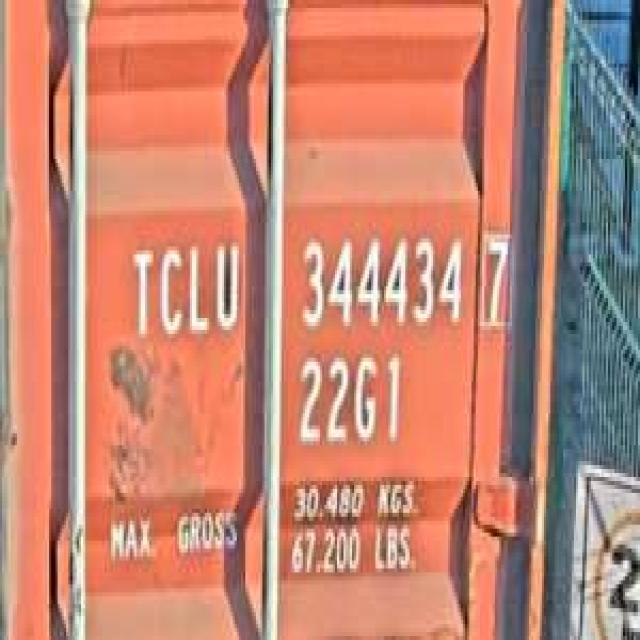dv: (476, 223, 514, 334)
owner: (124, 226, 245, 350)
serial: (292, 222, 465, 338)
size: (292, 342, 406, 457)
